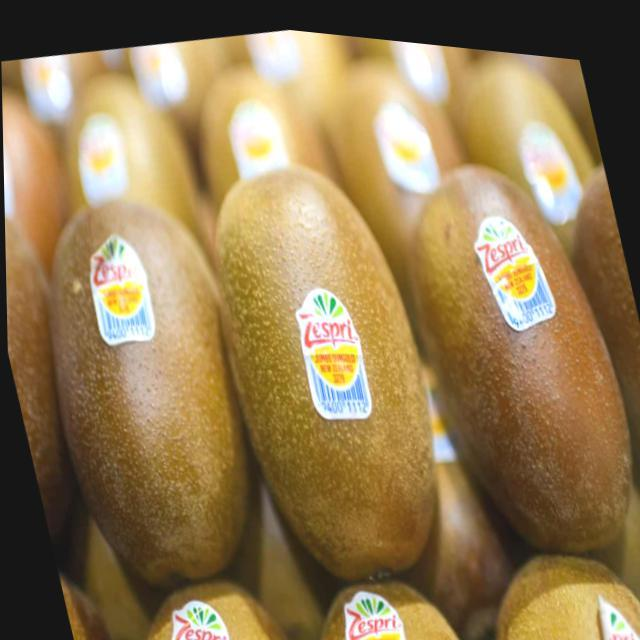kiwi: (187, 132, 466, 599), (11, 168, 281, 610), (384, 124, 640, 576)
